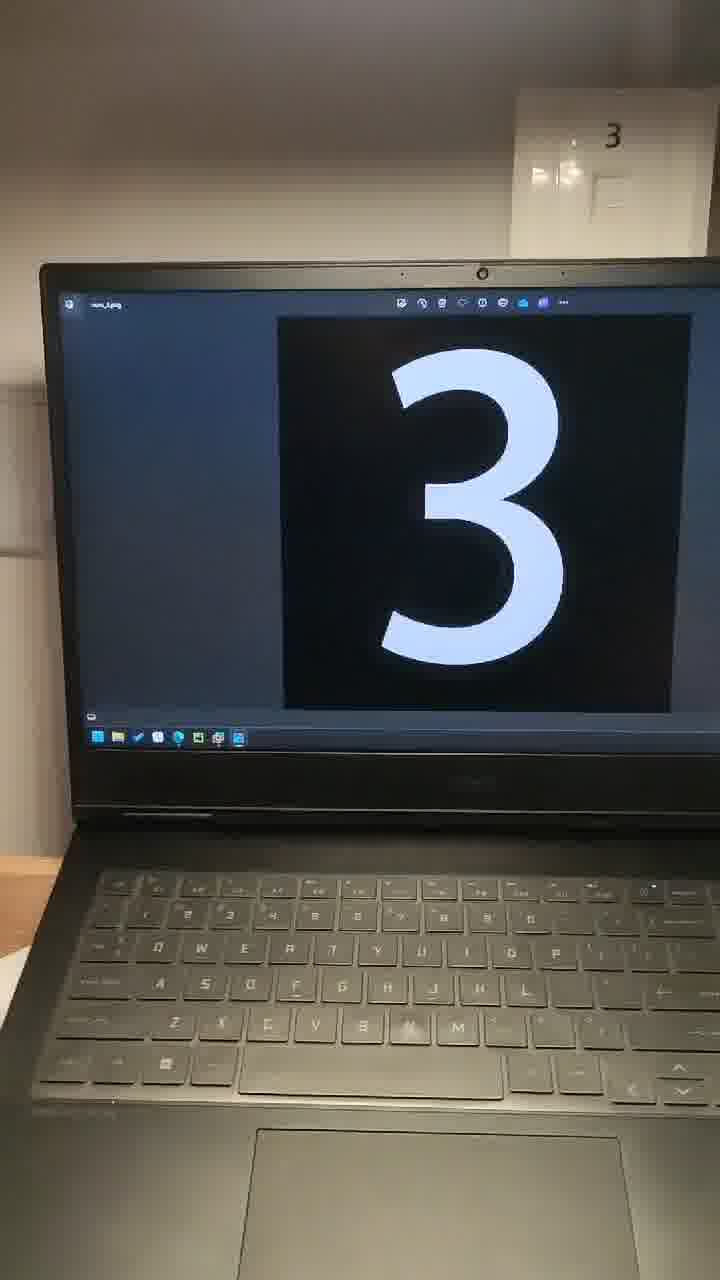three: (333, 283, 599, 710)
